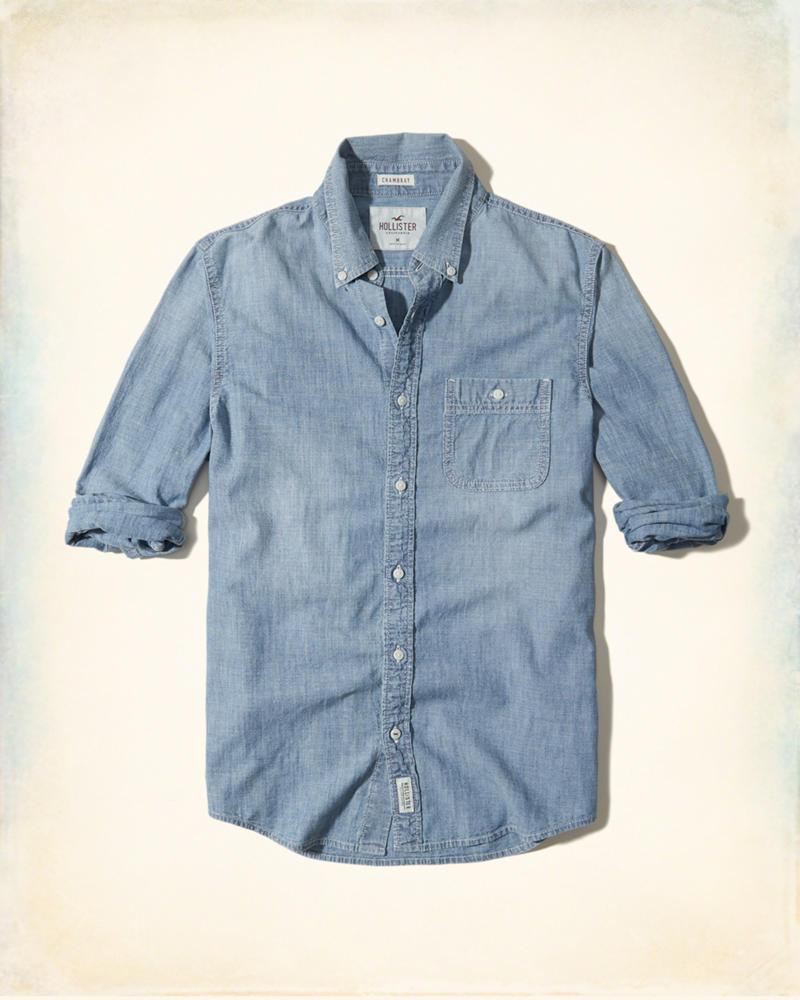teeshirt: (64, 137, 729, 884)
